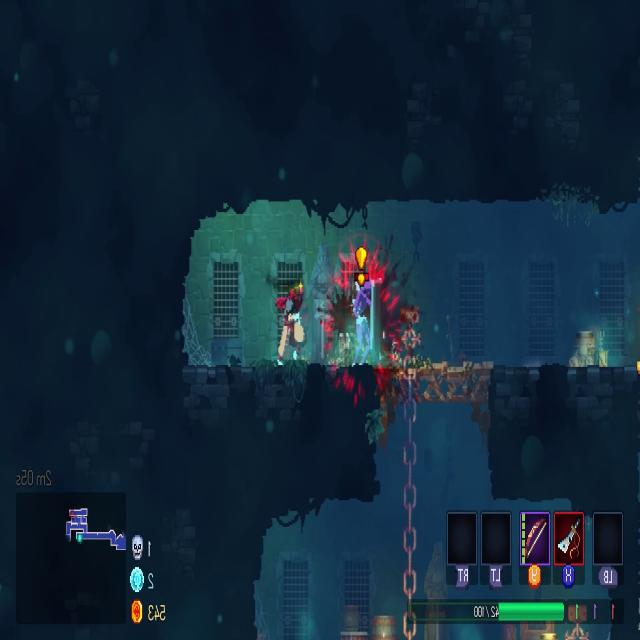agents: (272, 284, 304, 369)
enemy_purple_shield: (352, 273, 386, 369)
